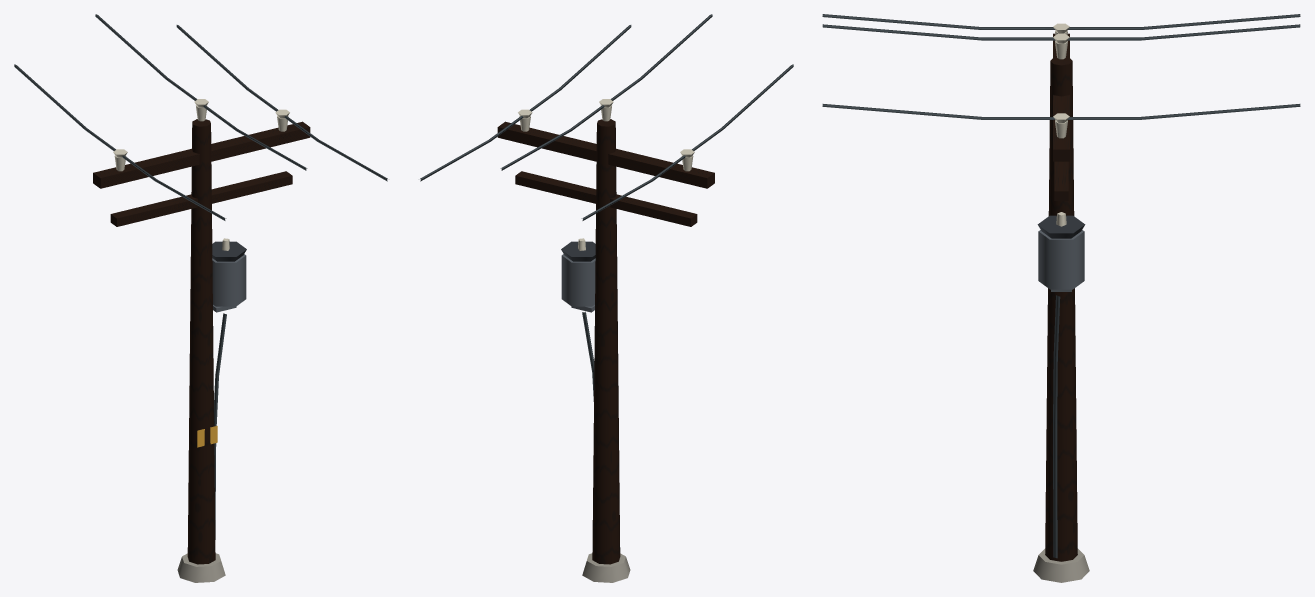
Rendered from electric-utility-pole.glb.
3 views of the same model, side by side, from view 1: azimuth 30°, elevation 25°; view 2: azimuth 150°, elevation 25°; view 3: azimuth 270°, elevation 25° (orthographic). The views are drawn at different scales.
Visible parts, largest first — view 1: Merged_utility-pole-timber, Merged_utility-cable, Merged_city-metal, Merged_city-curb, Merged_utility-insulator, Merged_city-metal-dark; view 2: Merged_utility-pole-timber, Merged_utility-cable, Merged_city-metal, Merged_city-curb, Merged_utility-insulator, Merged_city-metal-dark; view 3: Merged_utility-pole-timber, Merged_utility-cable, Merged_city-metal, Merged_city-curb, Merged_utility-insulator, Merged_city-metal-dark.
Boxes of the visible parts, x1,y1,x2,y2 form: Merged_utility-pole-timber: (93, 119, 310, 564); Merged_utility-cable: (14, 14, 387, 539); Merged_city-metal: (212, 254, 246, 312); Merged_city-curb: (177, 553, 225, 582); Merged_utility-insulator: (113, 99, 289, 250); Merged_city-metal-dark: (212, 241, 246, 261); Merged_utility-pole-timber: (497, 119, 714, 564); Merged_utility-cable: (420, 14, 793, 401); Merged_city-metal: (561, 254, 595, 312); Merged_city-curb: (582, 553, 630, 582); Merged_utility-insulator: (518, 99, 694, 250); Merged_city-metal-dark: (561, 241, 595, 261); Merged_utility-pole-timber: (1045, 33, 1077, 561); Merged_utility-cable: (822, 14, 1300, 558); Merged_city-metal: (1038, 230, 1084, 291); Merged_city-curb: (1033, 548, 1089, 582); Merged_utility-insulator: (1053, 23, 1069, 226); Merged_city-metal-dark: (1037, 215, 1085, 238).
Size of what is drawn, in the model's own units: 3.1 by 6.81 by 5.4.
Materials: 7 (1 with a texture image).
